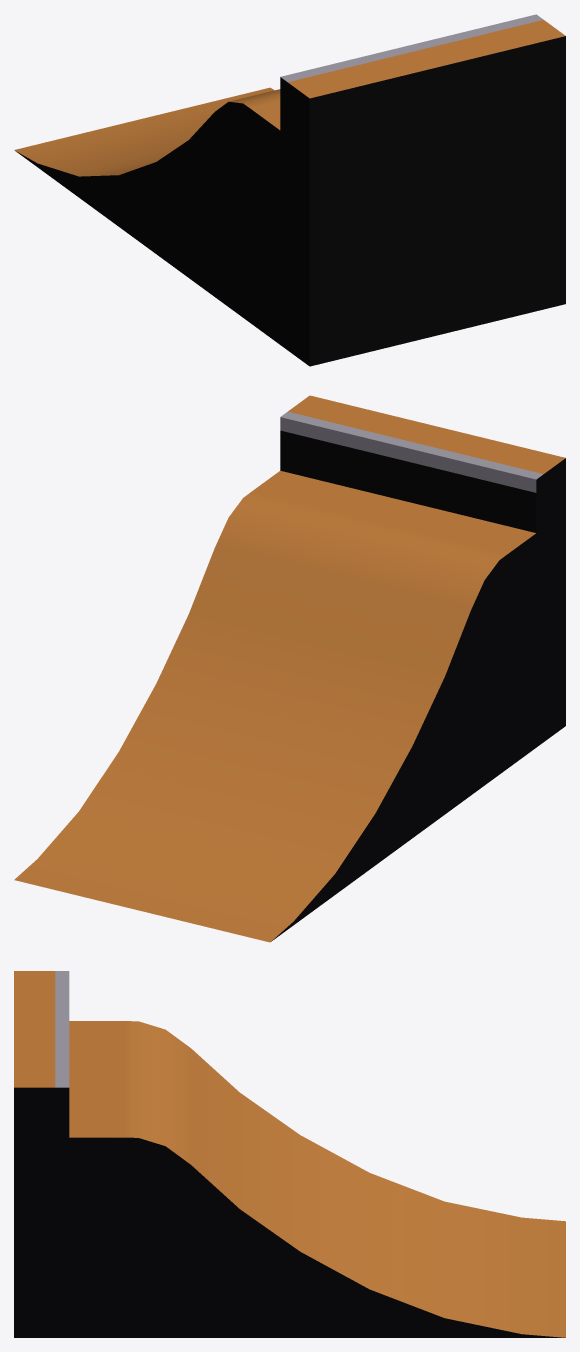
The model's file is Quater_LRG_EuroGap.obj.
The picture shows the model from 3 angles, top to bottom: view 1: azimuth 30°, elevation 25°; view 2: azimuth 150°, elevation 25°; view 3: azimuth 270°, elevation 25°; orthographic projection. The views are drawn at different scales.
Parts seen in each view (by area): view 1: Quater_LRG_EuroGap; view 2: Quater_LRG_EuroGap; view 3: Quater_LRG_EuroGap.
Part boxes in pixels (x1=…): Quater_LRG_EuroGap: x1=14, y1=14, x2=565, y2=366; Quater_LRG_EuroGap: x1=14, y1=395, x2=565, y2=942; Quater_LRG_EuroGap: x1=14, y1=971, x2=565, y2=1337.
Size of the model in its own units: 10 by 10 by 20.
